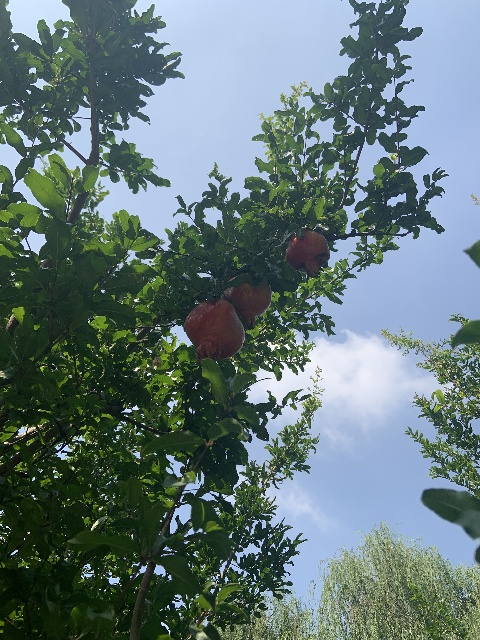ripe: (184, 299, 245, 362), (221, 275, 272, 330), (285, 230, 330, 275)
